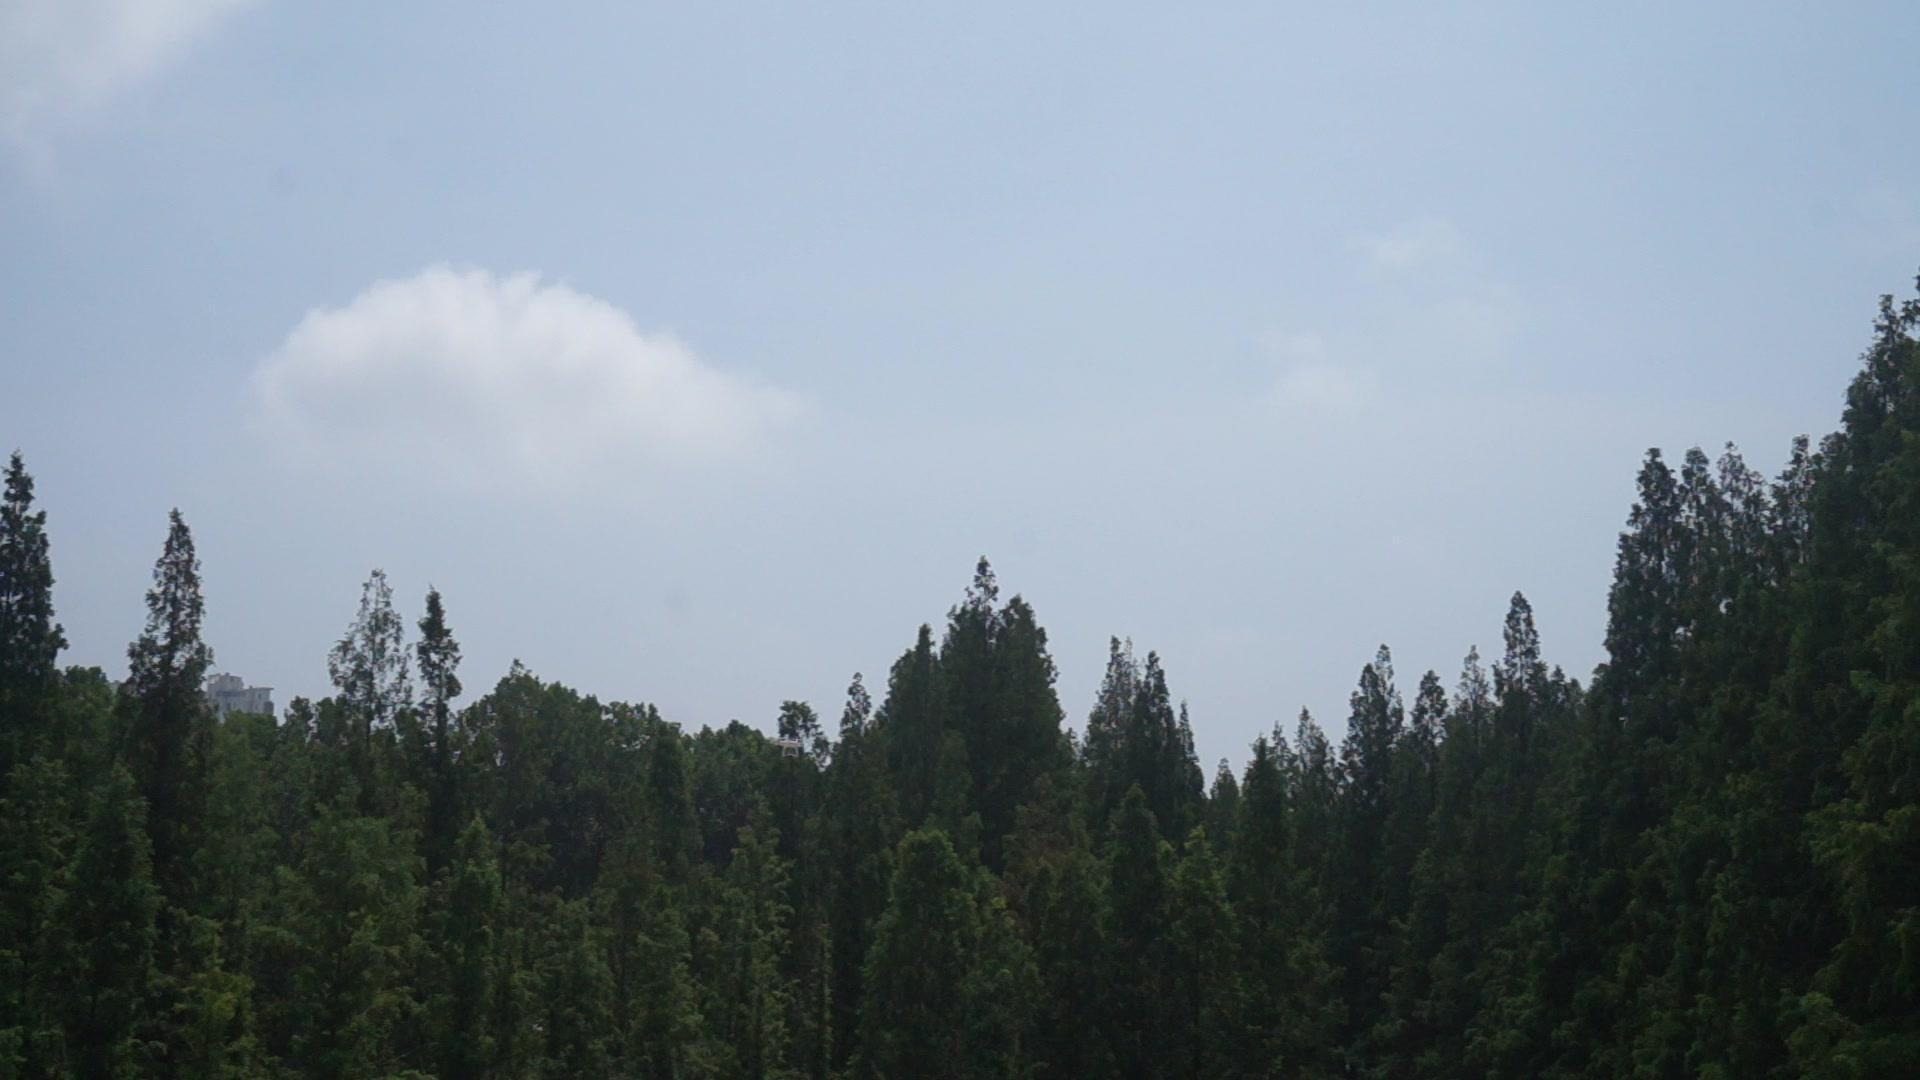UAV: (771, 735, 807, 758)
